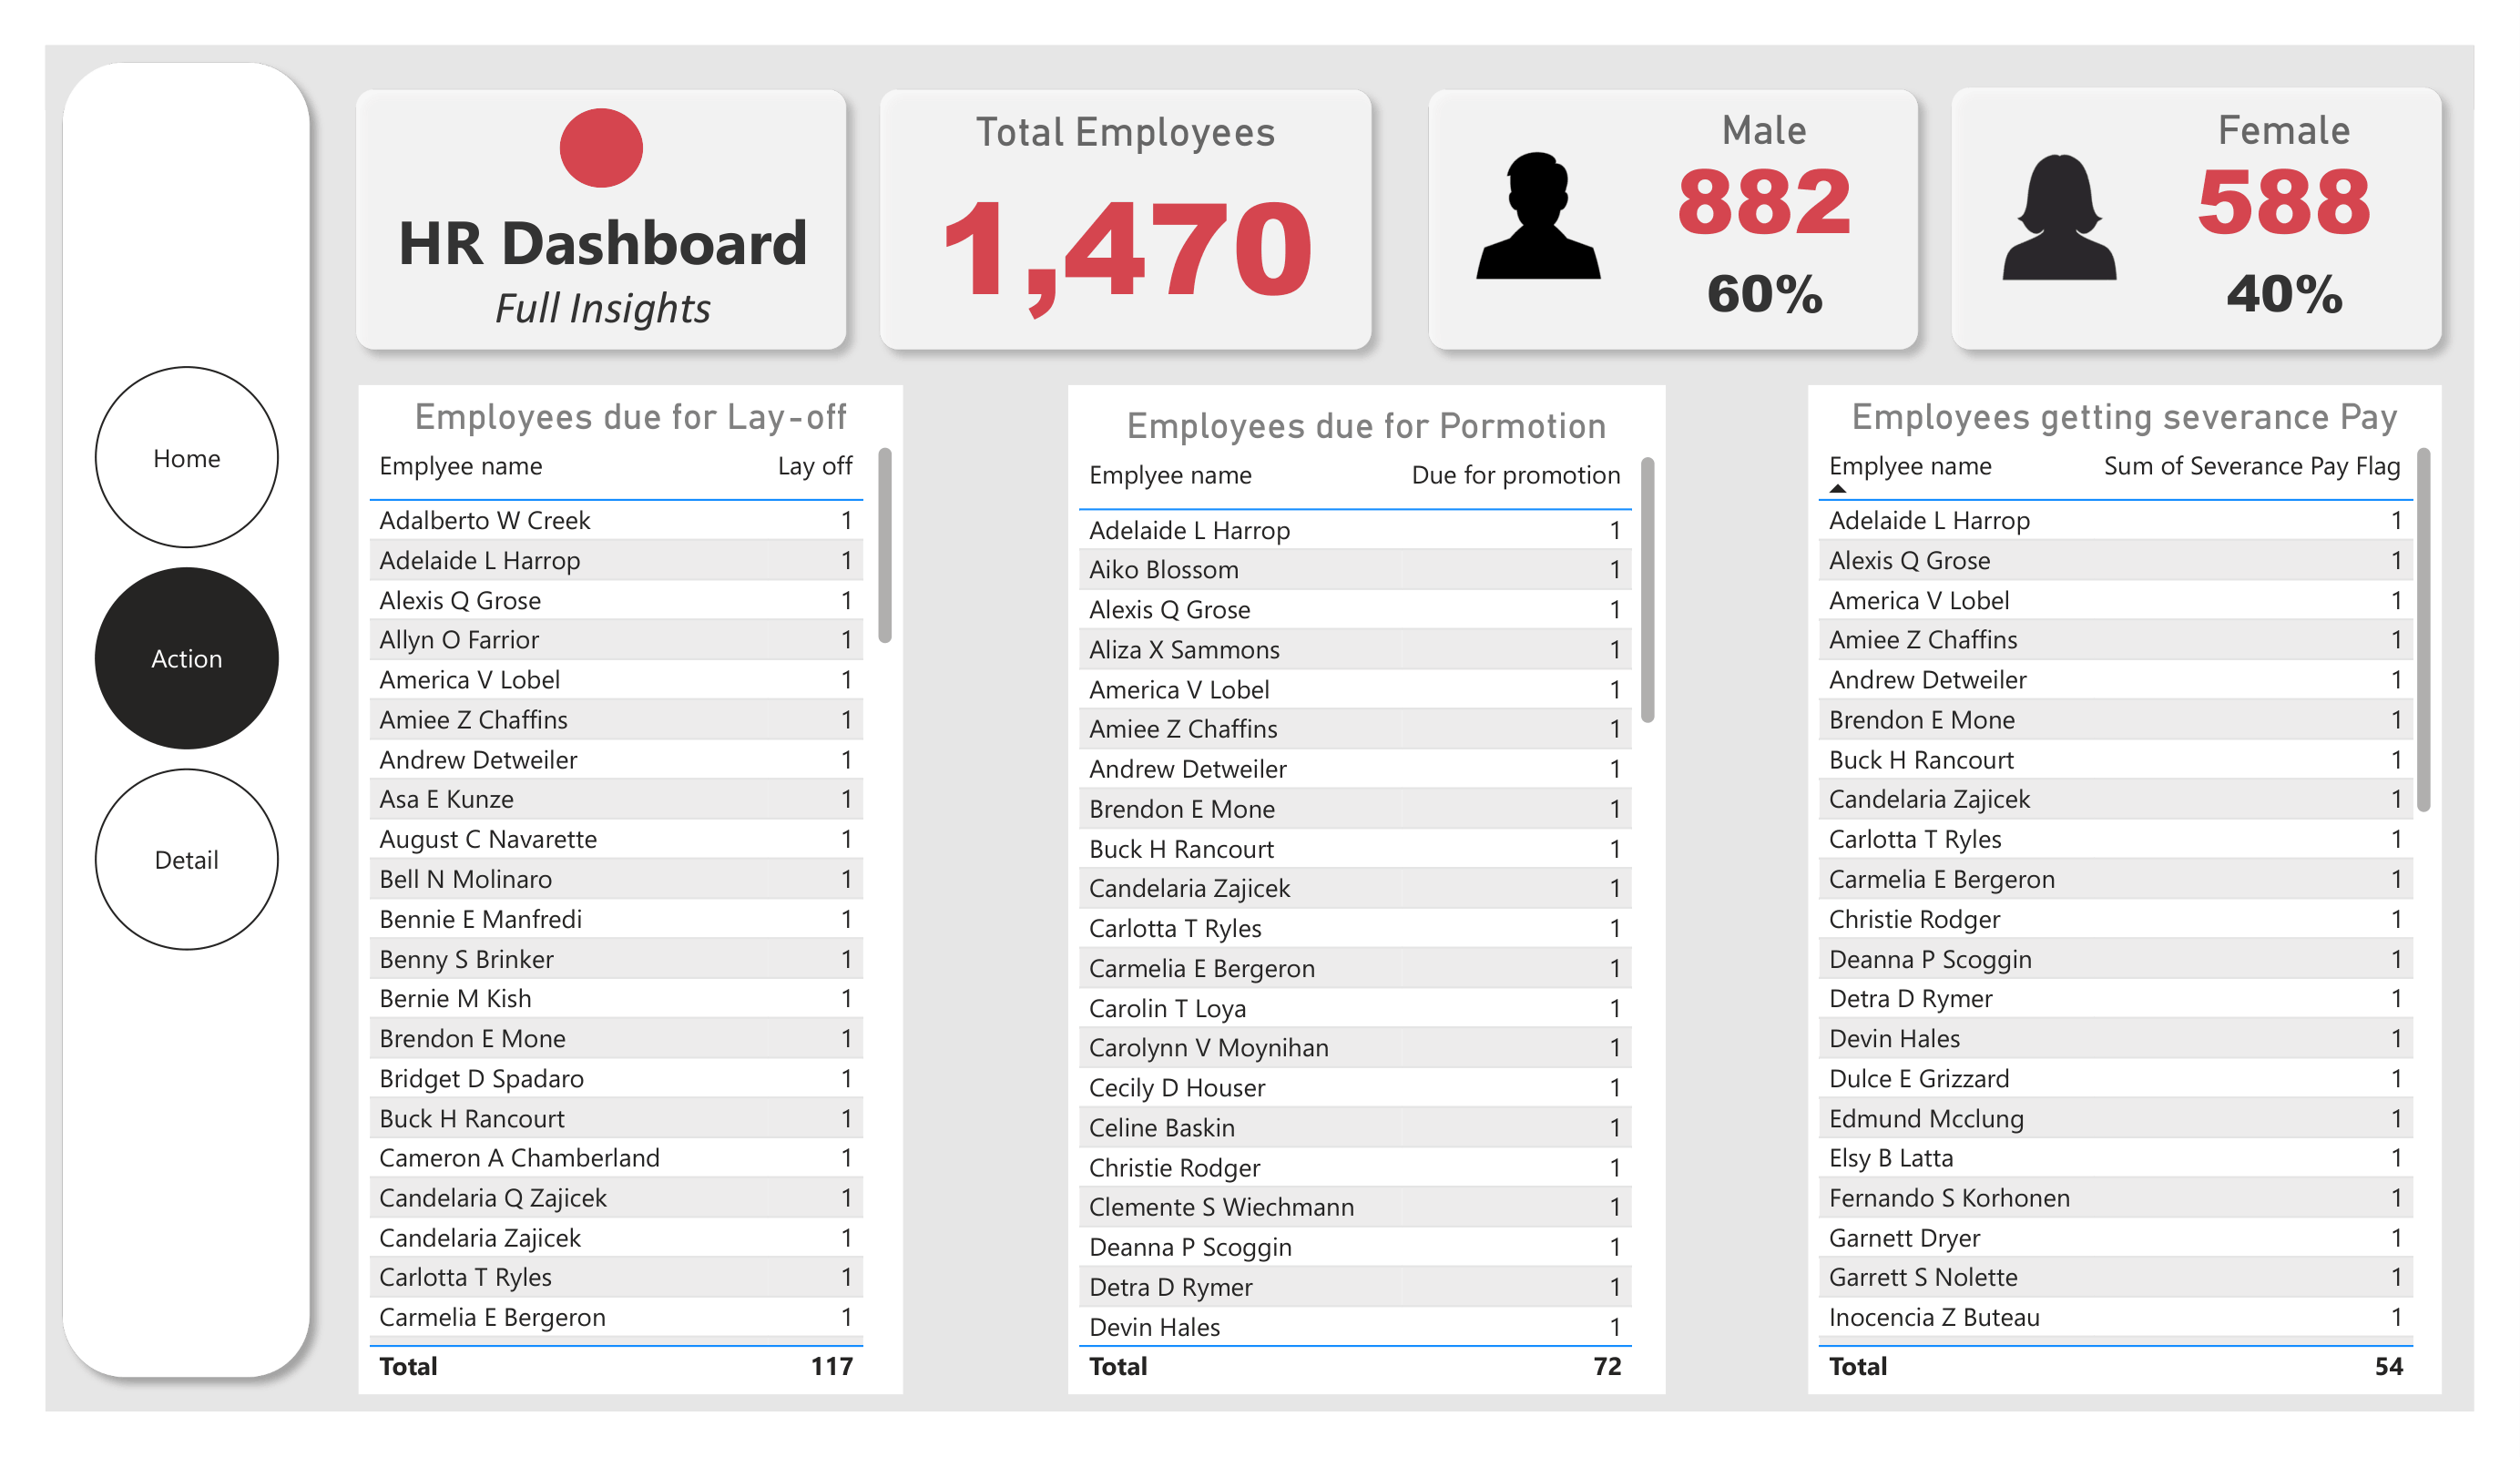

The page's visual inventory and layout, read from the dashboard file:
{"tool":"powerbi","page":{"name":"Action","canvas":[1280,720],"ordinal":1},"visuals":[{"type":"shape","box":[0,0,147.5,711.2],"z":0},{"type":"shape","box":[155,13.8,276.2,155],"z":1000},{"type":"shape","box":[431.2,13.8,276.2,155],"z":2000},{"type":"shape","box":[720,13.8,276.2,155],"z":3000},{"type":"shape","box":[995.9,13.1,276.1,155.6],"z":4000},{"type":"textbox","box":[163.8,75,260,57.5],"z":5000},{"type":"textbox","box":[163.8,117.5,260,51.2],"z":6000},{"type":"shape","box":[271.2,32.5,43.8,42.5],"z":7000},{"type":"cardVisual","title":"Total Employees","fields":{"Data":["All Measures.Total Emp"]},"box":[451.2,32.5,236.2,118.8],"z":8000},{"type":"cardVisual","title":"Male","fields":{"Data":["All Measures.Male"]},"box":[832.7,31.8,146.8,72.3],"z":9000},{"type":"cardVisual","title":"Male","fields":{"Data":["All Measures.% male"]},"box":[857.9,104.1,97.5,43.8],"z":10000},{"type":"cardVisual","title":"Female","fields":{"Data":["All Measures.Female"]},"box":[1106.6,31.8,146.8,72.3],"z":11000},{"type":"cardVisual","title":"Male","fields":{"Data":["All Measures.% female"]},"box":[1131.8,104.1,97.5,43.8],"z":12000},{"type":"image","box":[719.8,31.8,133.7,116.1],"z":13000},{"type":"image","box":[990.4,27.4,141.3,127.1],"z":14000},{"type":"tableEx","title":"Employees due for Lay-off","fields":{"Values":["HR Analytics Data.Emplyee name","All Measures.Lay off"]},"box":[165.1,179.1,286.6,532.3],"z":15000},{"type":"tableEx","title":"Employees due for Pormotion","fields":{"Values":["HR Analytics Data.Emplyee name","All Measures.Due for promotion"]},"box":[538.7,179.1,314.8,532.3],"z":16000},{"type":"tableEx","title":"Employees getting severance Pay","fields":{"Values":["HR Analytics Data.Emplyee name","Sum(HR Analytics Data.Severance Pay Flag)"]},"box":[929,179.1,334,532.3],"z":16001},{"type":"pageNavigator","box":[25.6,168.9,97.3,309.7],"z":16002}]}

Visuals, with their boxes on the page's 1280x720 design canvas (x1, y1, x2, y2). These are canvas units, not pixel positions in the 2520x1457 screenshot, which may show the page scaled, cropped or inside an application window:
shape: locate(0, 0, 148, 711)
shape: locate(155, 14, 431, 169)
shape: locate(431, 14, 707, 169)
shape: locate(720, 14, 996, 169)
shape: locate(996, 13, 1272, 169)
textbox: locate(164, 75, 424, 132)
textbox: locate(164, 118, 424, 169)
shape: locate(271, 32, 315, 75)
"Total Employees" cardVisual: locate(451, 32, 687, 151)
"Male" cardVisual: locate(833, 32, 980, 104)
"Male" cardVisual: locate(858, 104, 955, 148)
"Female" cardVisual: locate(1107, 32, 1253, 104)
"Male" cardVisual: locate(1132, 104, 1229, 148)
image: locate(720, 32, 854, 148)
image: locate(990, 27, 1132, 154)
"Employees due for Lay-off" tableEx: locate(165, 179, 452, 711)
"Employees due for Pormotion" tableEx: locate(539, 179, 854, 711)
"Employees getting severance Pay" tableEx: locate(929, 179, 1263, 711)
pageNavigator: locate(26, 169, 123, 479)
